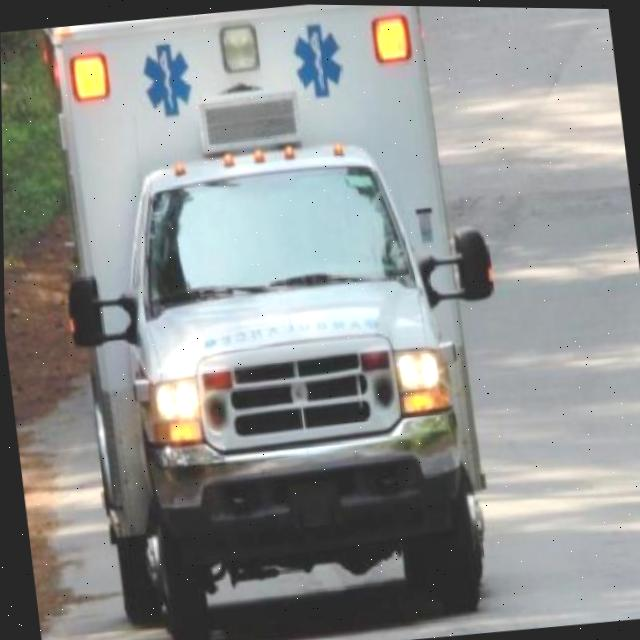emergency: (33, 0, 533, 640)
